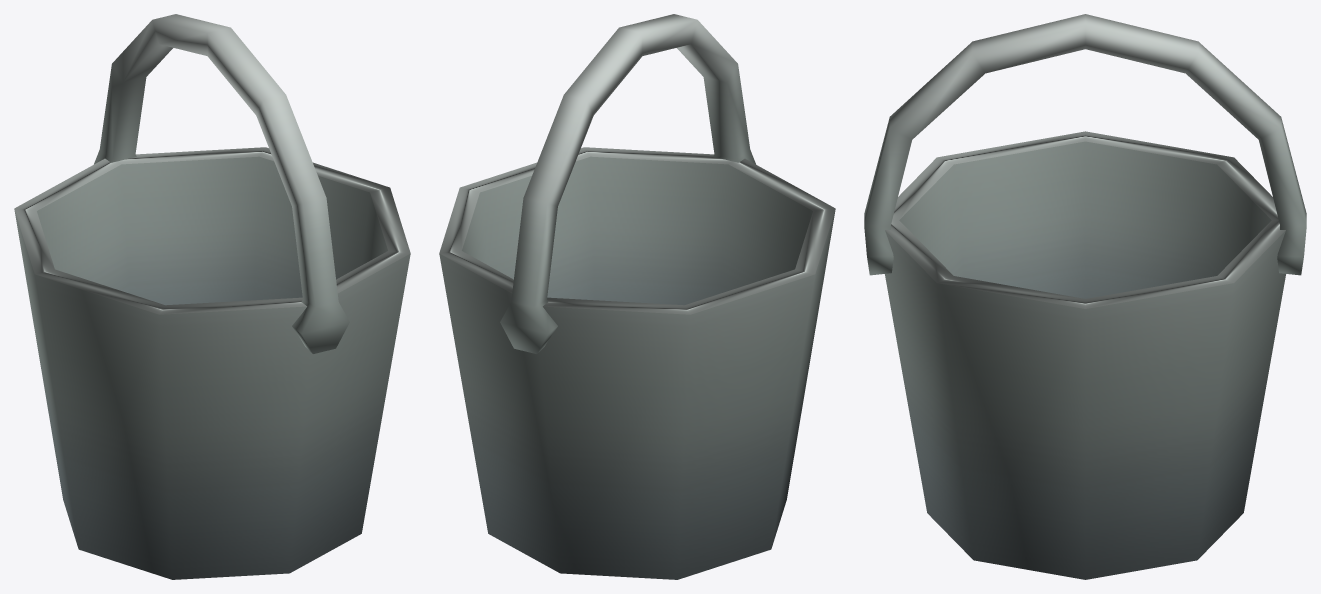
The model's file is bucket.fbx.
3 renders of one model, left to right at view 1: azimuth 30°, elevation 25°; view 2: azimuth 150°, elevation 25°; view 3: azimuth 270°, elevation 25°, orthographic. The views are drawn at different scales.
Visible parts, largest first — view 1: bucket; view 2: bucket; view 3: bucket.
Part boxes in pixels (<box>): bucket: <box>14,14,410,579</box>; bucket: <box>439,14,835,579</box>; bucket: <box>864,14,1306,579</box>.
Bounding box in the file's own units: 47.62 × 62.05 × 50.13.
